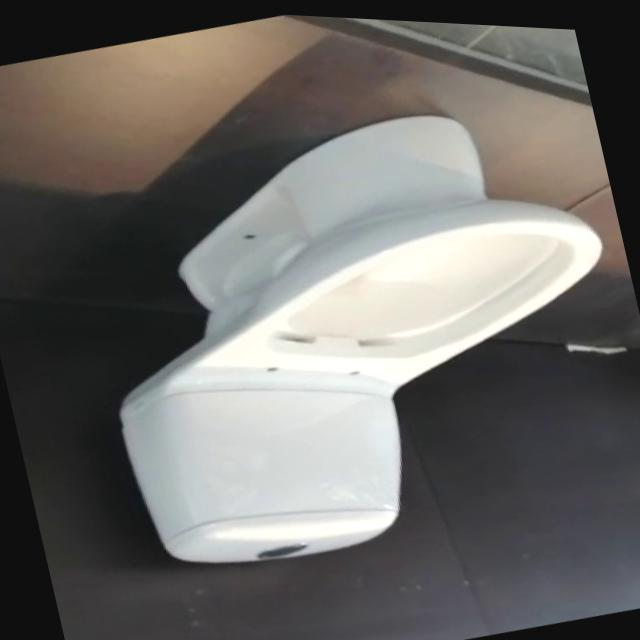toilet: (64, 60, 640, 602)
